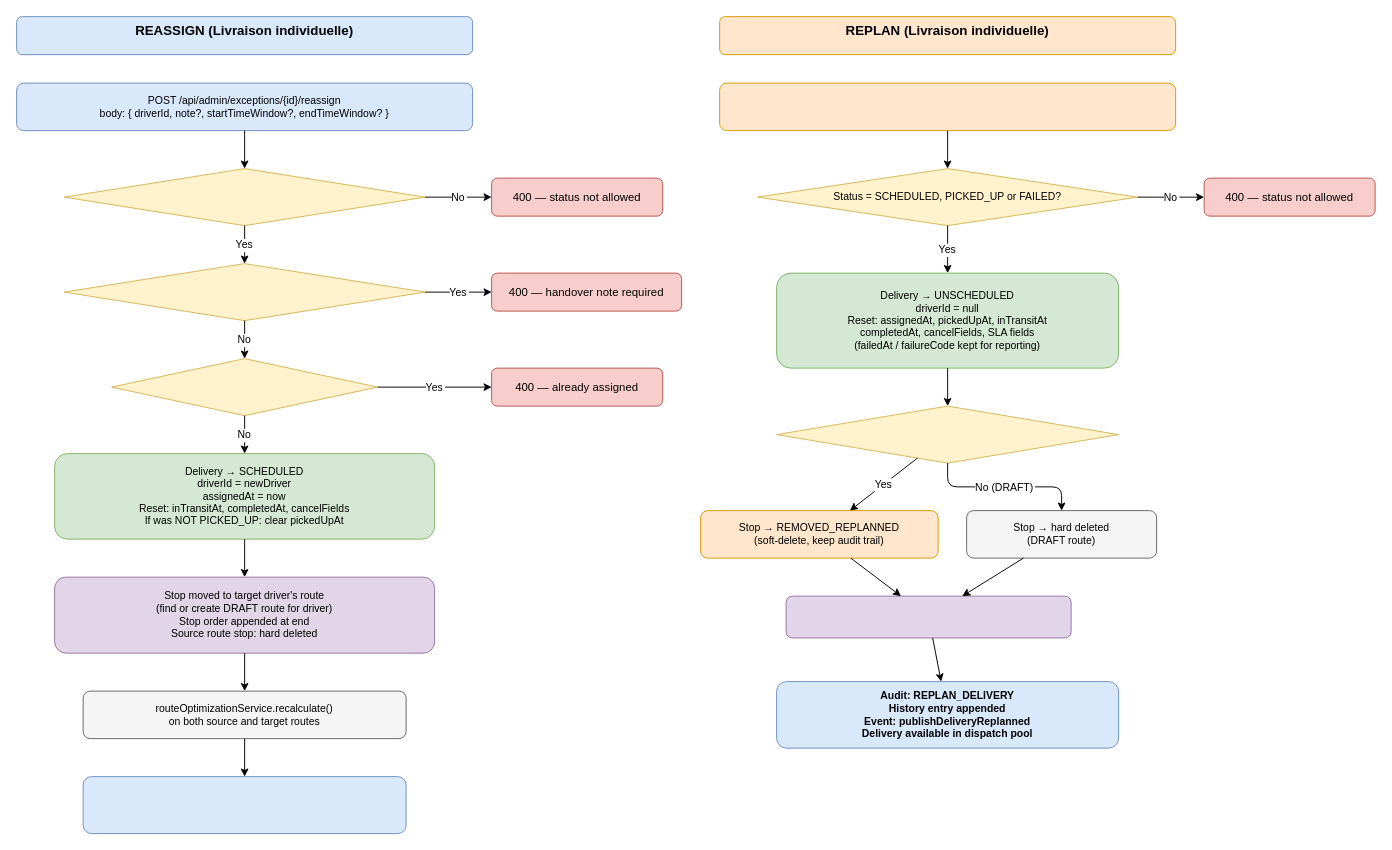
Some shapes in this 1392 by 850 pixel diagram are drawn without their labels. The shapes that lost their labels are listed below. From the top down, each one's centre as x and y in pixels, then its label:
At point (947, 106): "POST /api/admin/exceptions/{id}/replan body: { note? }".
At point (244, 197): "Status = SCHEDULED or PICKED_UP?".
At point (244, 292): "Was PICKED_UP and no note?".
At point (244, 387): "Same driver?".
At point (947, 434): "Route was VALIDATED or IN_PROGRESS?".
At point (928, 616): "Stop order re-packed on remaining active stops".
At point (244, 805): "Audit: REASSIGN_DELIVERY History entry appended Event: publishDeliveryReassigned".
